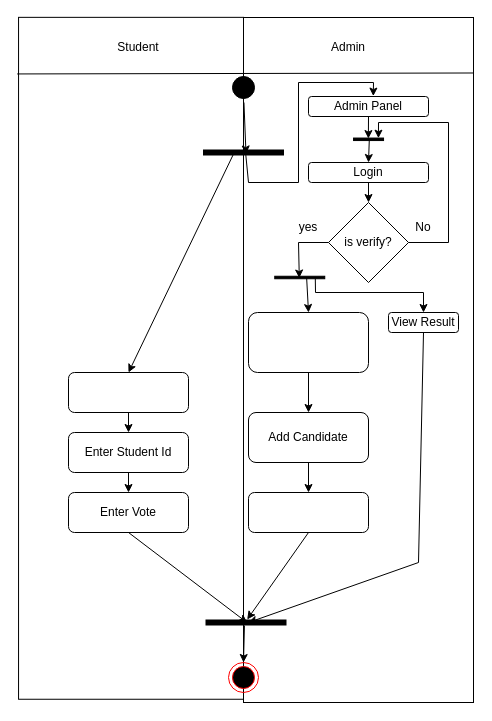
Some shapes in this 492 by 721 pixel diagram are drawn without their labels. Each missing label, with the centre of its shape:
"Enter Student Panel" goes at (x=128, y=392).
"Initialize Voting" goes at (x=308, y=342).
"Log Out" goes at (x=308, y=512).
